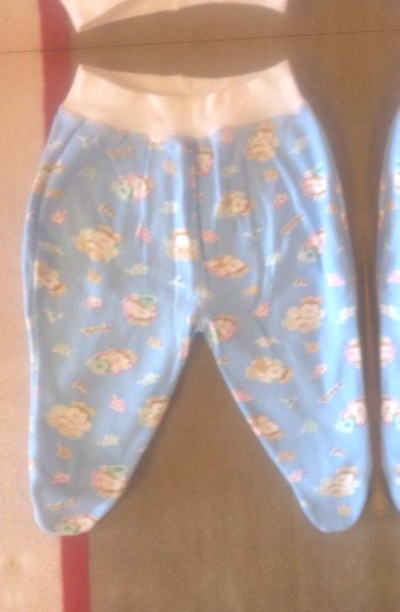Pants: (0, 52, 381, 559), (354, 30, 400, 538), (0, 0, 350, 34), (0, 73, 8, 581), (323, 0, 400, 13)
